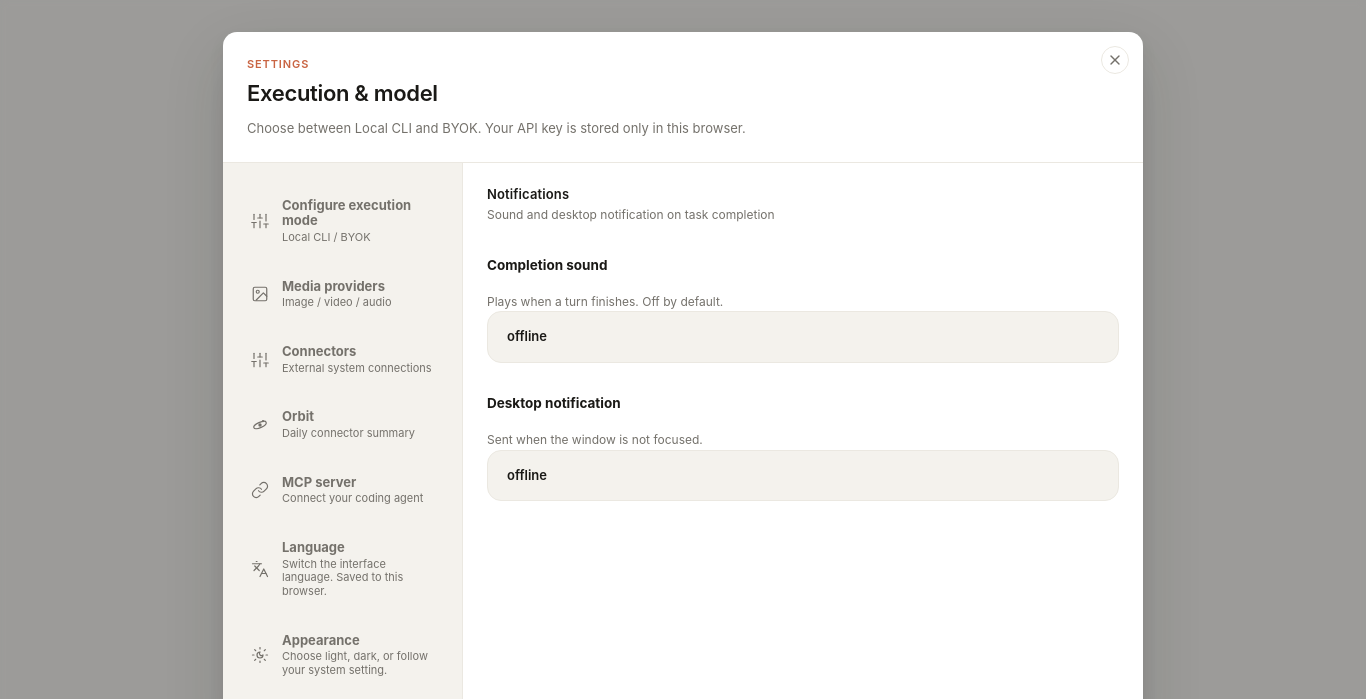
Test case: SettingsDialog notifications interactions › renders notifications offline by default and only reveals sound pickers when enabled
Expected: the element named "Completion sound" is shown, [487, 312, 1119, 363]
Expected: the element "Success sound" is not shown
Click the button "offline" below "Completion sound": (527, 336) [492, 316, 1114, 358]
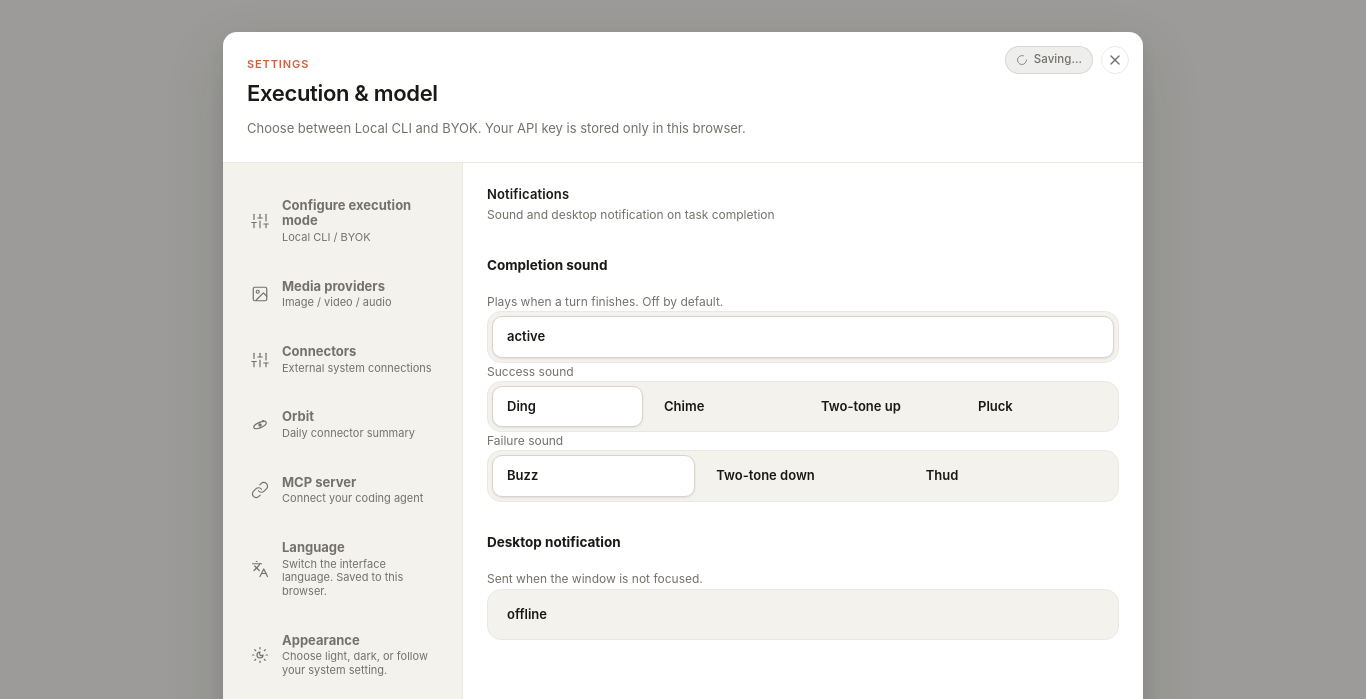
Expected: the element named "Success sound" is shown, [487, 381, 1119, 432]
Expected: the element named "Failure sound" is shown, [487, 450, 1119, 502]
